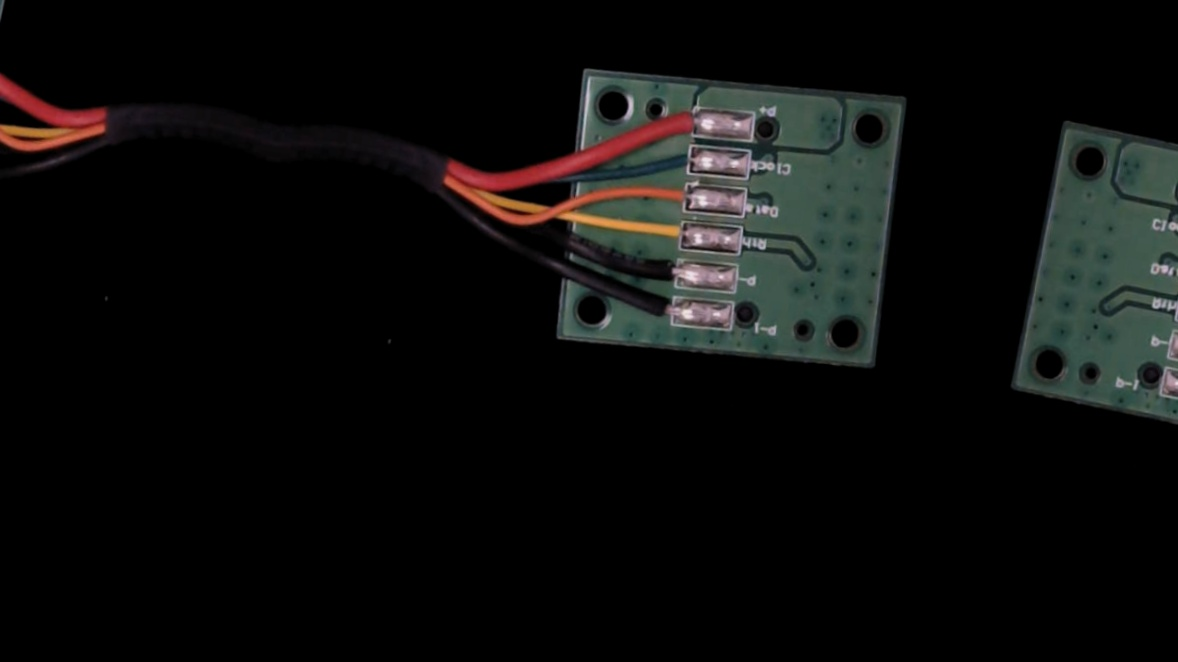Black: (620, 249, 696, 293)
Black1: (620, 288, 689, 330)
Green: (649, 137, 711, 178)
Orange: (631, 174, 706, 216)
Red: (653, 101, 715, 141)
Yellow: (625, 211, 702, 256)
